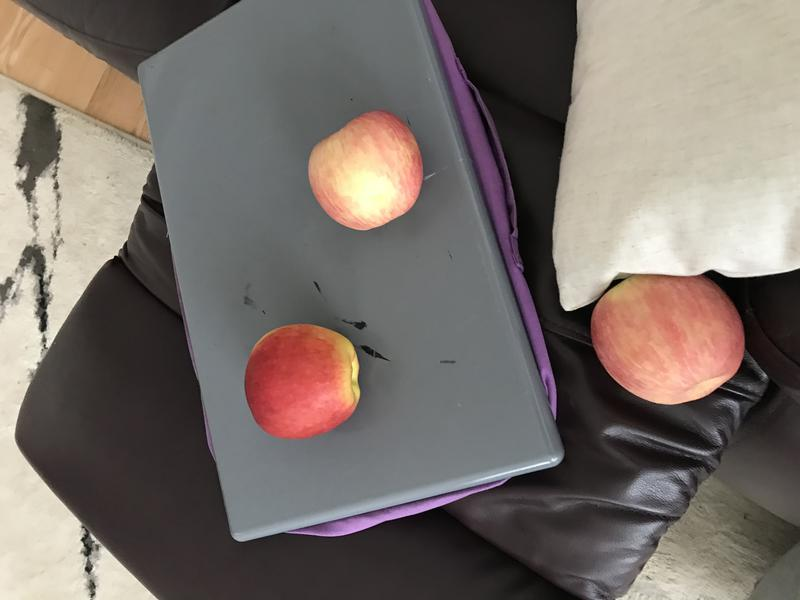red_apple: (585, 258, 754, 412), (298, 104, 434, 236), (241, 319, 367, 449)
